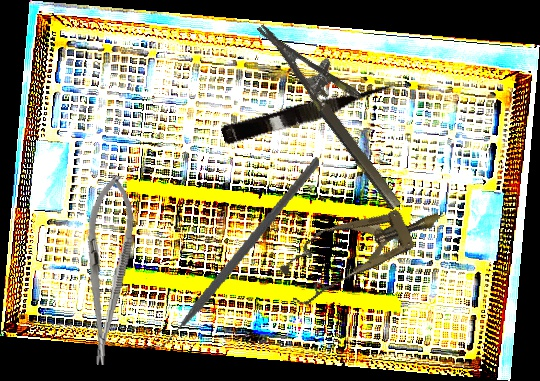Chopper: (142, 137, 320, 370)
Micro Scissor: (220, 76, 402, 149)
Needle Holder: (256, 2, 427, 212), (75, 173, 139, 367)
Speculum: (272, 186, 452, 311)
